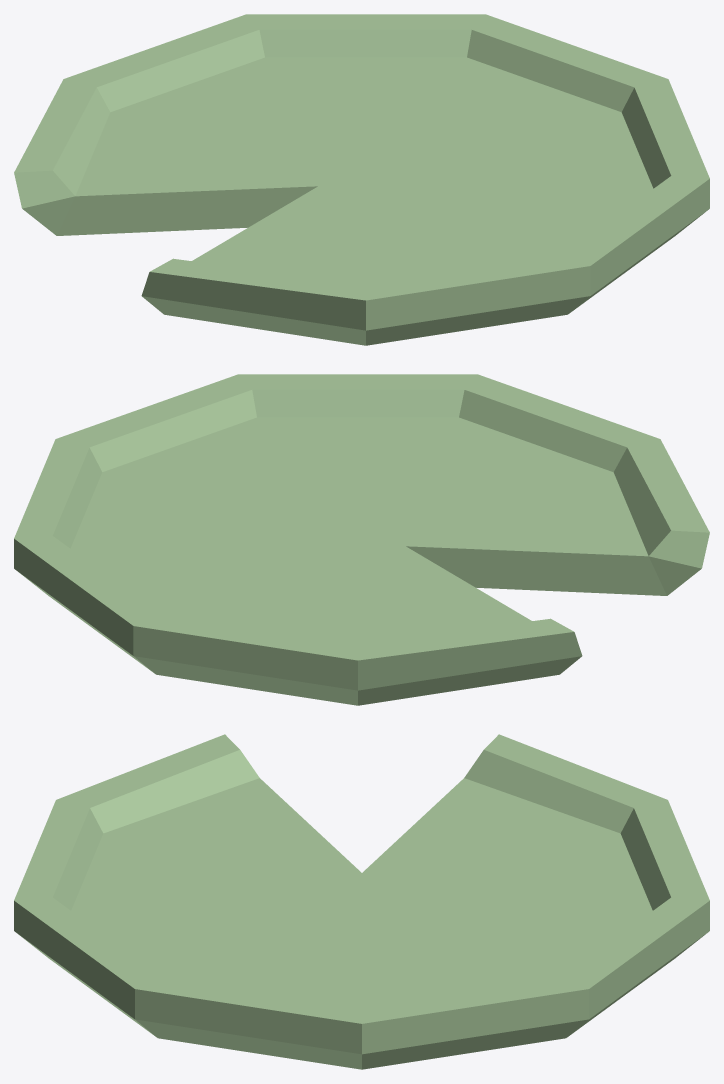
Rendered from LilyPad1.fbx.
3 views of the same model, one above another, from view 1: azimuth 30°, elevation 25°; view 2: azimuth 150°, elevation 25°; view 3: azimuth 270°, elevation 25° (orthographic).
Visible parts, largest first — view 1: LilyPad1; view 2: LilyPad1; view 3: LilyPad1.
Part boxes in pixels (box(x1,y1,x2,y2)): LilyPad1: box(14, 14, 709, 345); LilyPad1: box(14, 374, 709, 705); LilyPad1: box(14, 734, 709, 1069).
Size of the model in its own units: 1.94 by 0.19 by 1.97.
